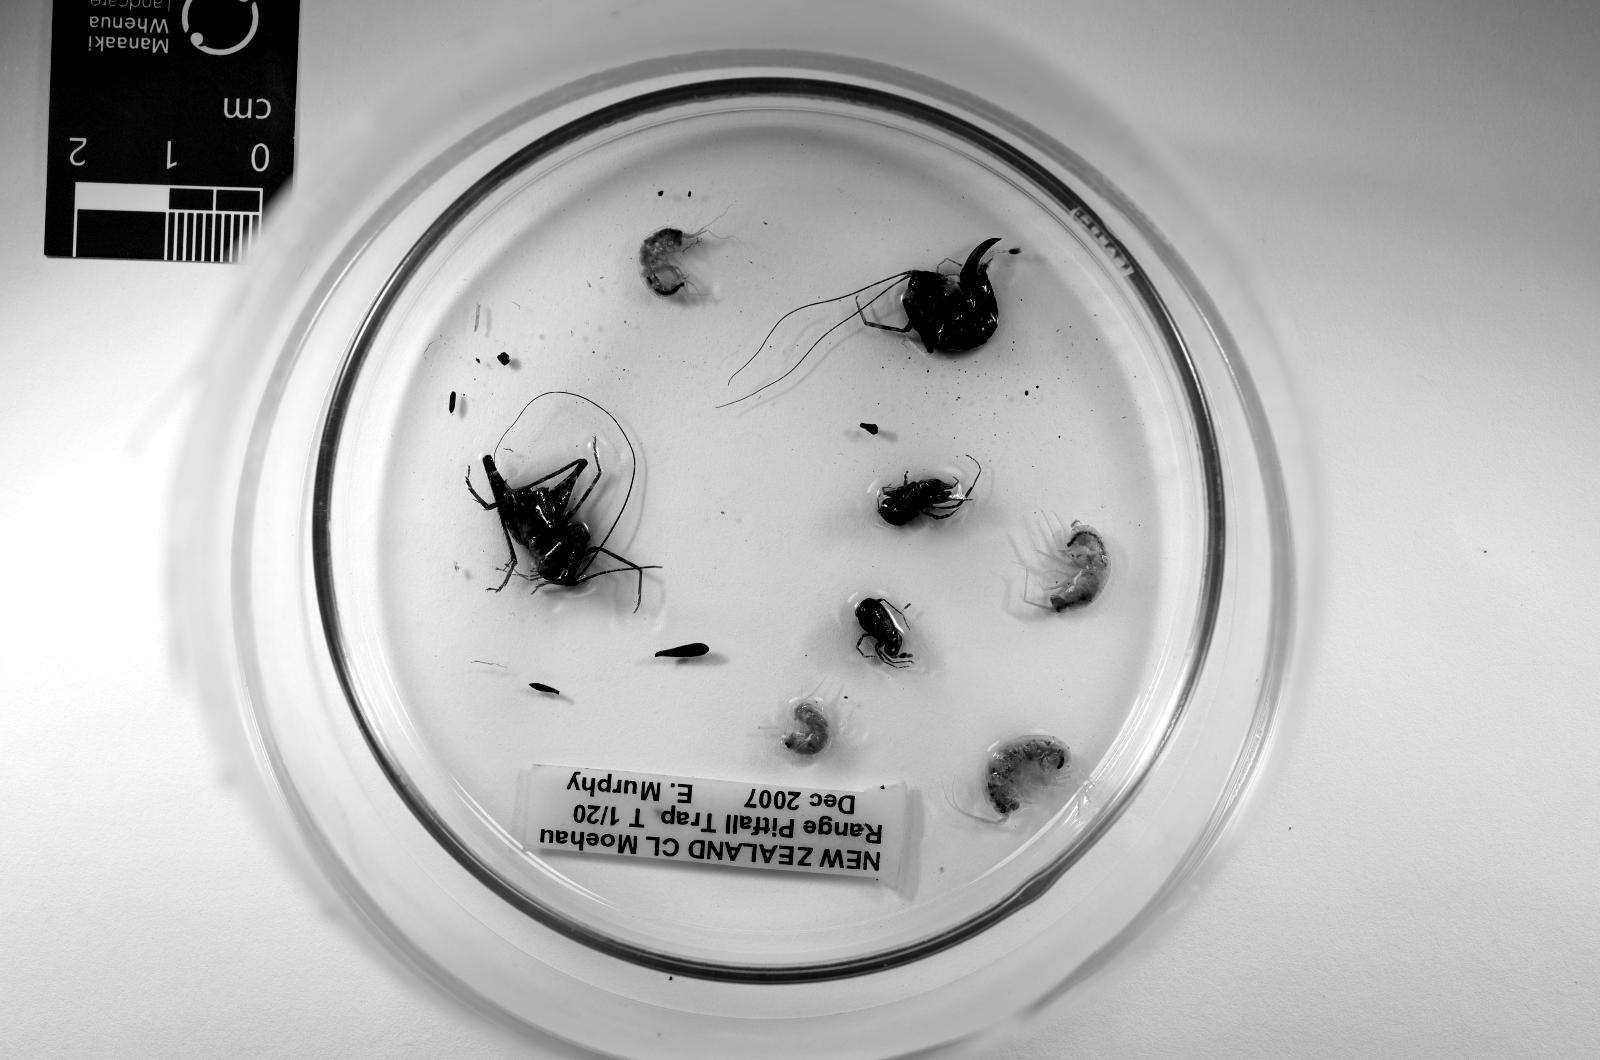amphipoda: (984, 736, 1071, 816), (1031, 522, 1109, 612), (641, 227, 710, 295), (784, 702, 828, 755)
opiliones: (879, 478, 972, 525), (856, 600, 913, 667)
orthoptera: (466, 392, 660, 608), (856, 239, 1000, 354)
